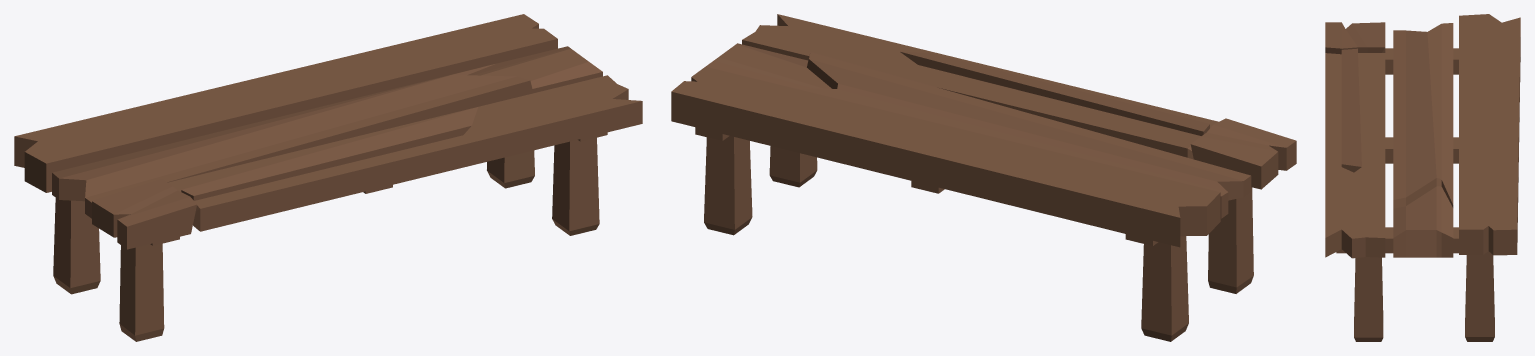
Rendered from SM_bench_seat.fbx.
3 views of the same model, side by side, from view 1: azimuth 30°, elevation 25°; view 2: azimuth 150°, elevation 25°; view 3: azimuth 270°, elevation 25° (orthographic). The views are drawn at different scales.
Visible parts, largest first — view 1: bench_seat; view 2: bench_seat; view 3: bench_seat.
Boxes of the visible parts, <box> form: bench_seat: <box>14,14,642,341</box>; bench_seat: <box>671,14,1296,341</box>; bench_seat: <box>1325,14,1520,341</box>.
Bounding box in the file's own units: 176 × 47.55 × 66.34.
